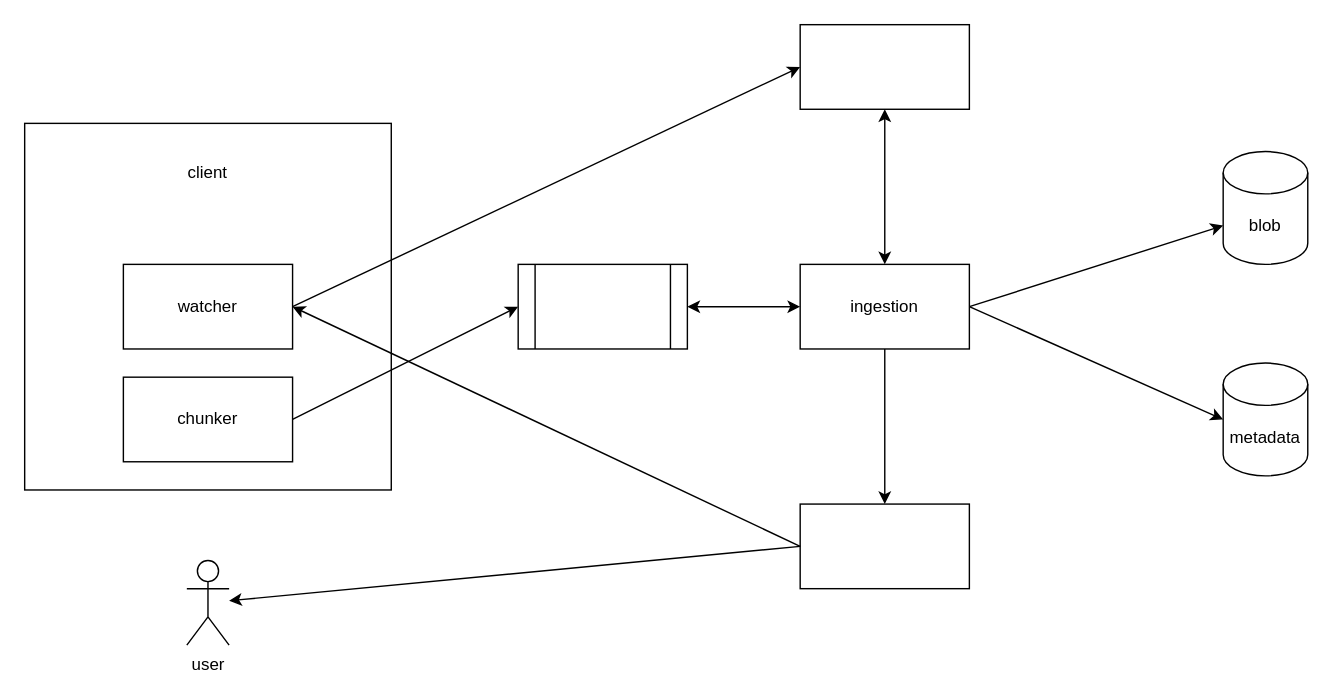
Some shapes in this 1332 by 699 pixel diagram are drawn without their labels. Here are the shapes that lost their labels. From the top down, the centre of each, then its label:
At point (884, 66): "auth".
At point (602, 306): "mq".
At point (884, 546): "notifier".
